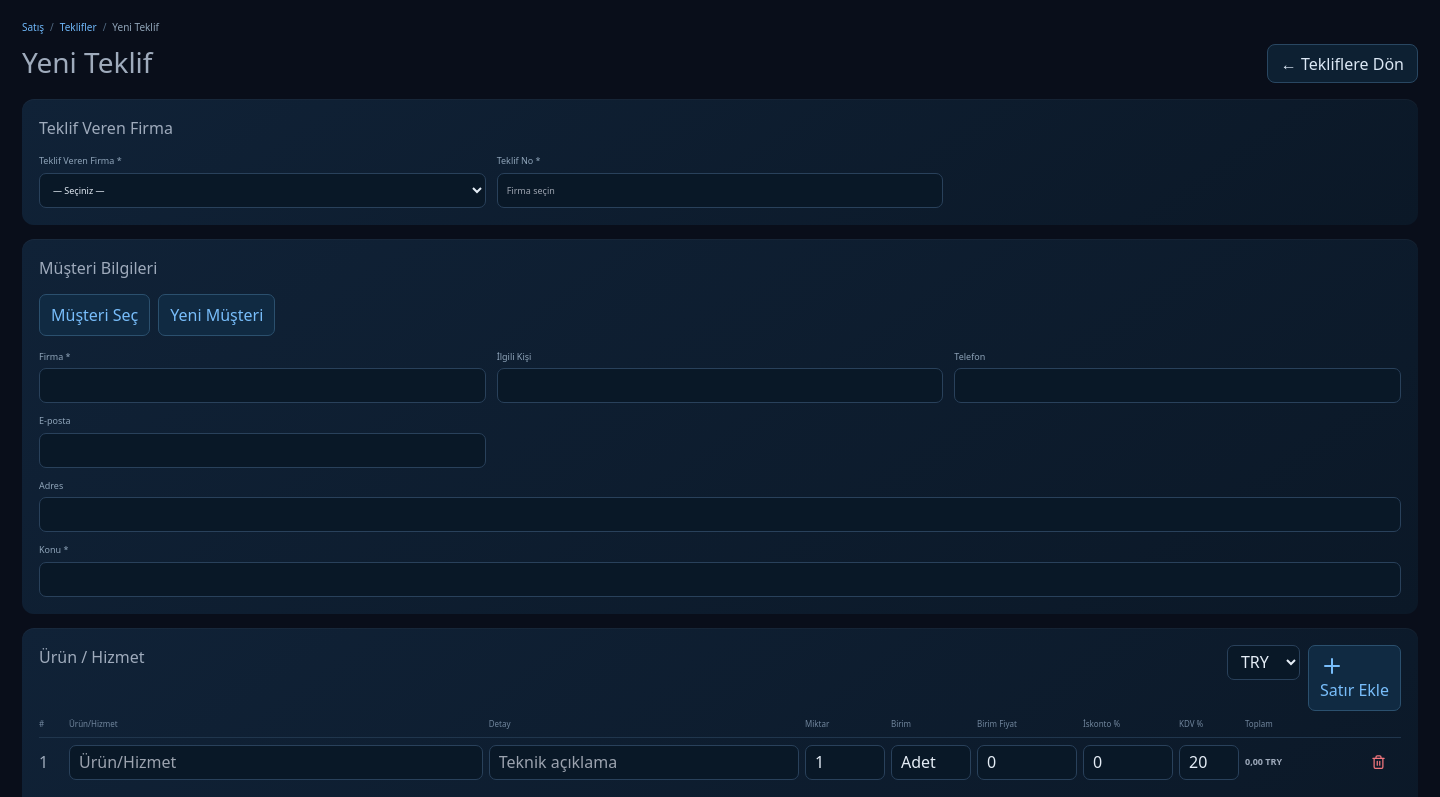
it: QuoteFormPage — save › blocks save and shows an error when no customer is selected
Step 1. Select "Dayan Dişli & Profil Taşlama" in the dropdown labelled "Teklif Veren Firma *" → (262, 190), box [39, 172, 486, 208]
(page scrolled)
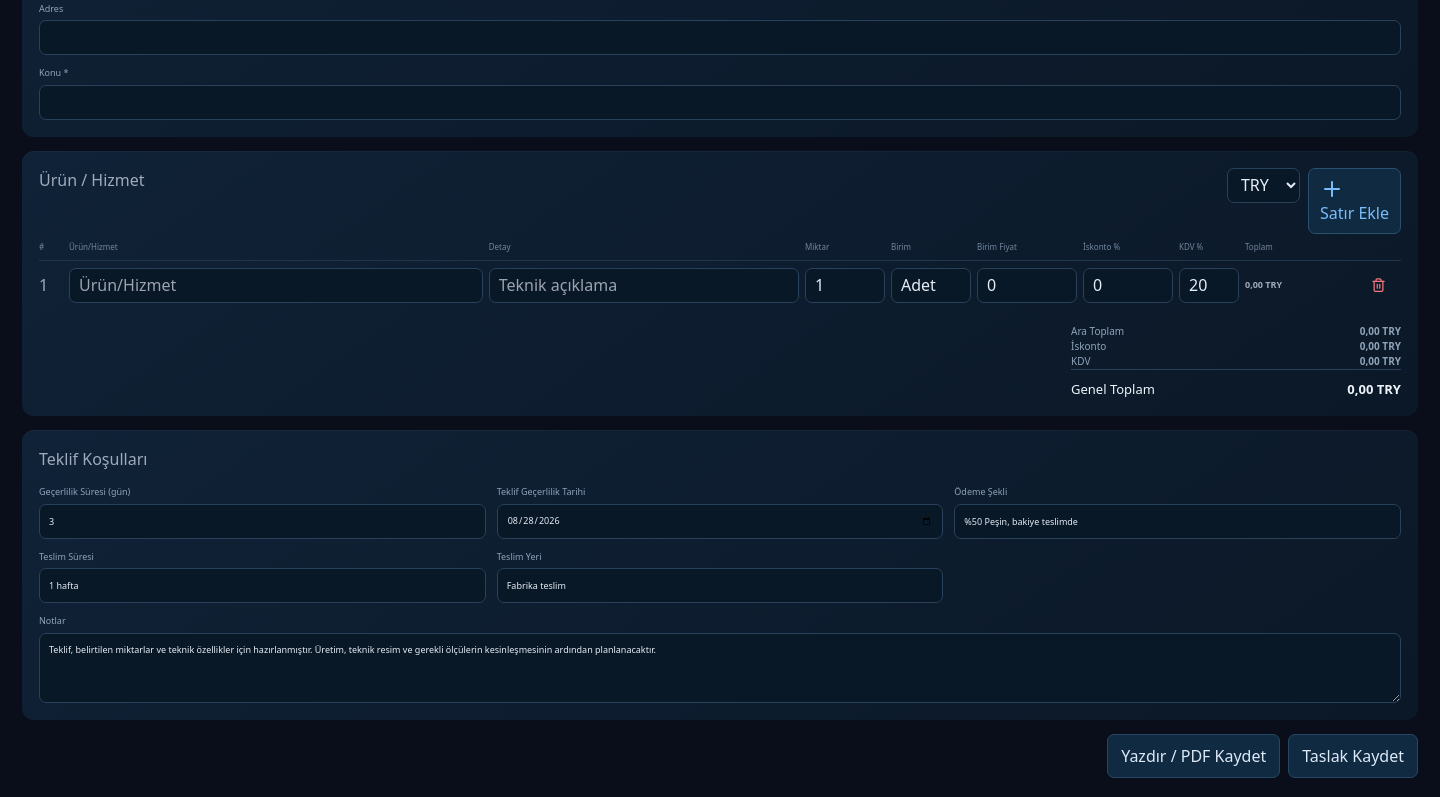
Step 2. Click the button "Taslak Kaydet" → (1353, 756), box [1288, 734, 1418, 778]
(page scrolled)
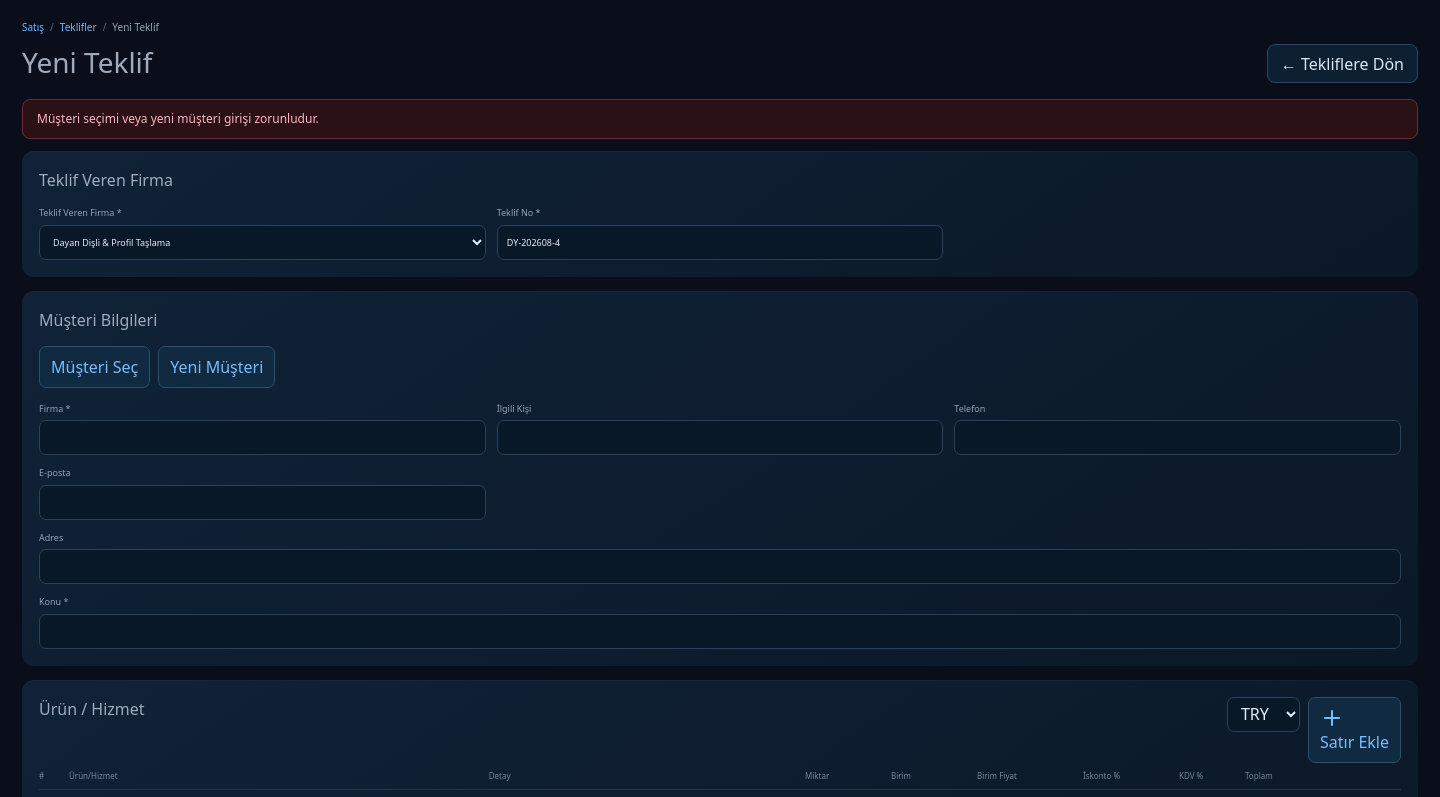
Result: the text "Müşteri seçimi veya yeni müşteri girişi zorunludur." is shown at [22, 99, 1418, 139]
